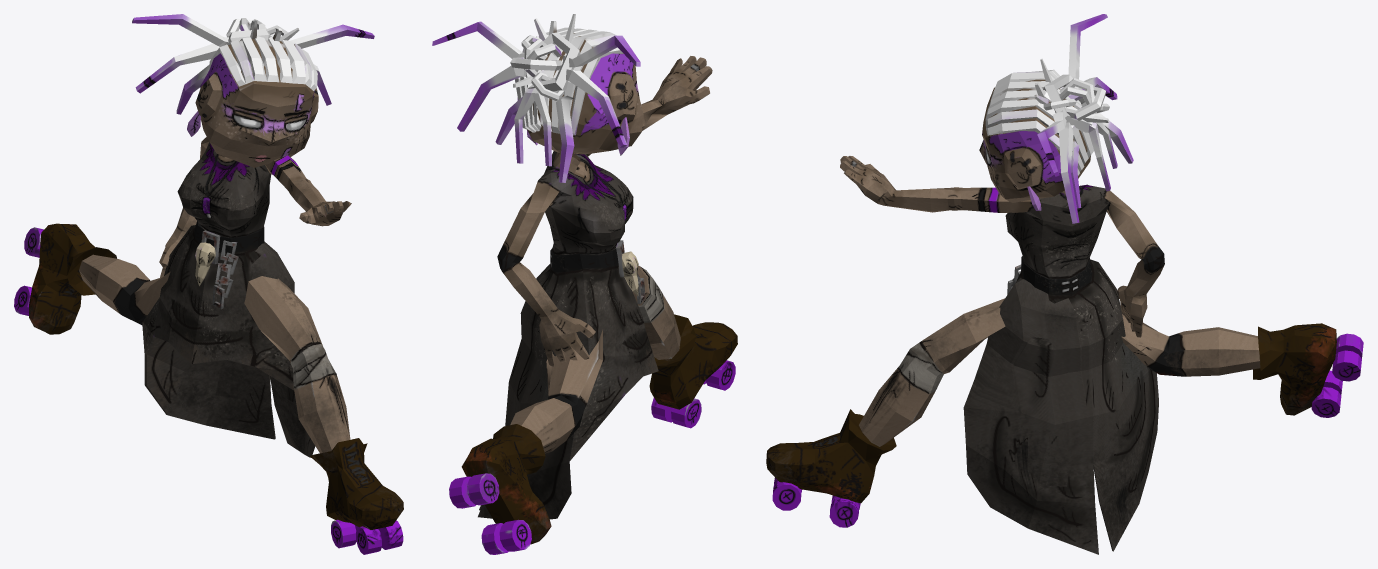
Rendered from bruja_000030.obj.
3 views of the same model, side by side, from view 1: azimuth 30°, elevation 25°; view 2: azimuth 150°, elevation 25°; view 3: azimuth 270°, elevation 25° (orthographic). The views are drawn at different scales.
Parts seen in each view (by area): view 1: Bruja_Plane.001; view 2: Bruja_Plane.001; view 3: Bruja_Plane.001.
Part boxes in pixels (<box>): Bruja_Plane.001: <box>14,14,403,554</box>; Bruja_Plane.001: <box>432,14,737,554</box>; Bruja_Plane.001: <box>766,14,1363,554</box>.
Size of the model in its own units: 7.43 by 14.63 by 16.79.
